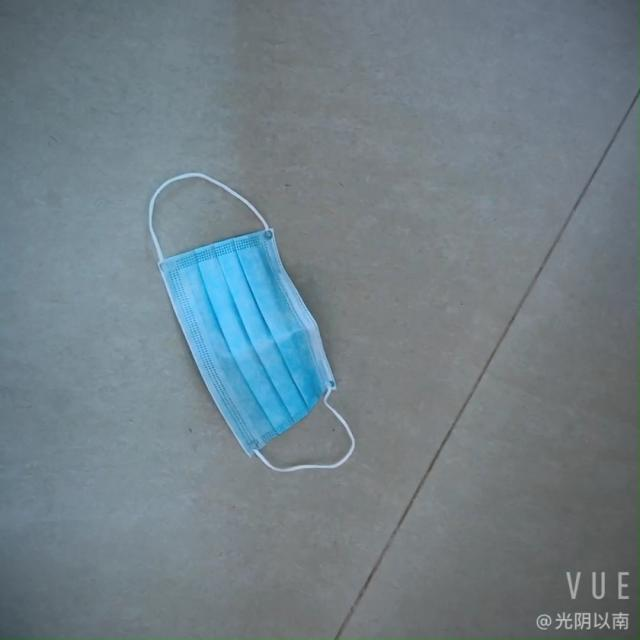non-organic waste: (157, 231, 331, 451)
